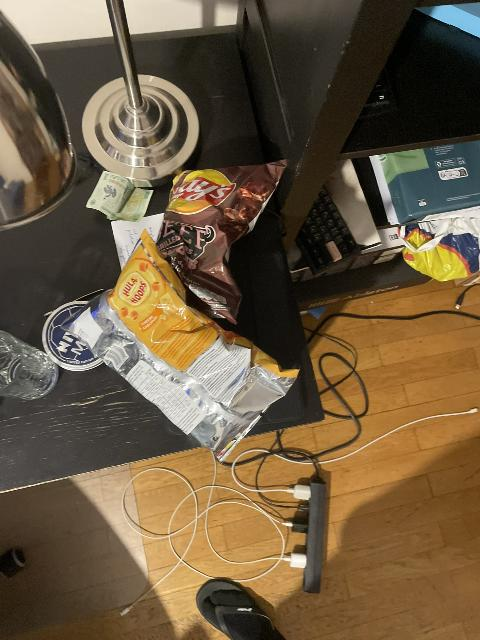Chio Hula Hoops Cheese 70g: (60, 230, 293, 462)
Lays Beef Grilled Ribs 125g: (154, 163, 286, 321)
